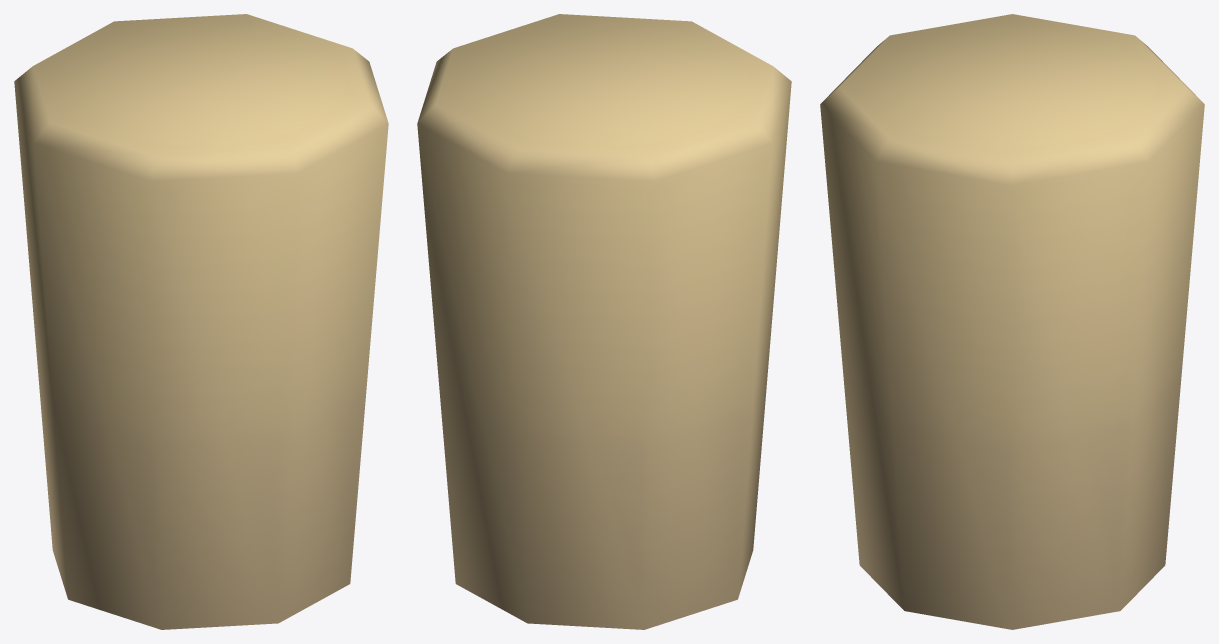
File: Bottle_01_Cork.fbx
3 renders of one model, left to right at view 1: azimuth 30°, elevation 25°; view 2: azimuth 150°, elevation 25°; view 3: azimuth 270°, elevation 25°, orthographic.
Visible parts, largest first — view 1: Bottle_01.002; view 2: Bottle_01.002; view 3: Bottle_01.002.
Part boxes in pixels (x1,y1,x2,y2): Bottle_01.002: (14, 14, 388, 629); Bottle_01.002: (417, 14, 791, 629); Bottle_01.002: (820, 14, 1204, 629).
Size of the model in its own units: 5.34 by 5.34 by 7.32.
1 material, 1 textured.
